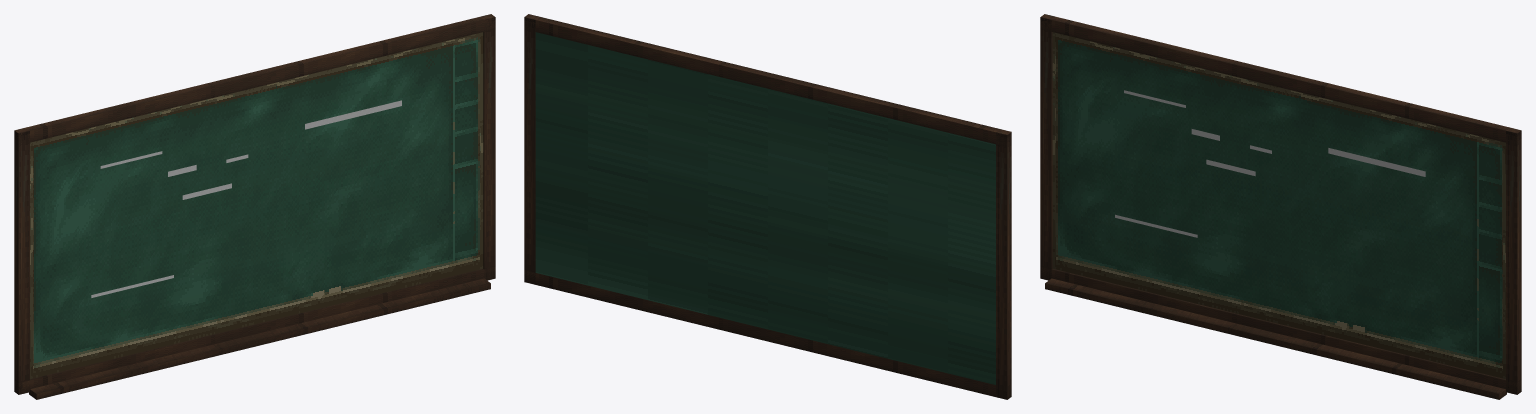
File: prop_blackboard-small-2.glb
3 renders of one model, left to right at view 1: azimuth 30°, elevation 25°; view 2: azimuth 150°, elevation 25°; view 3: azimuth 330°, elevation 25°, orthographic.
Visible parts, largest first — view 1: prop_blackboard-small-2; view 2: prop_blackboard-small-2; view 3: prop_blackboard-small-2.
Boxes of the visible parts, x1=… form: prop_blackboard-small-2: x1=14, y1=14, x2=495, y2=399; prop_blackboard-small-2: x1=524, y1=14, x2=1011, y2=399; prop_blackboard-small-2: x1=1040, y1=14, x2=1521, y2=399.
Bounding box in the file's own units: 2.52 × 1.33 × 0.1.
3 materials, 3 textured.
